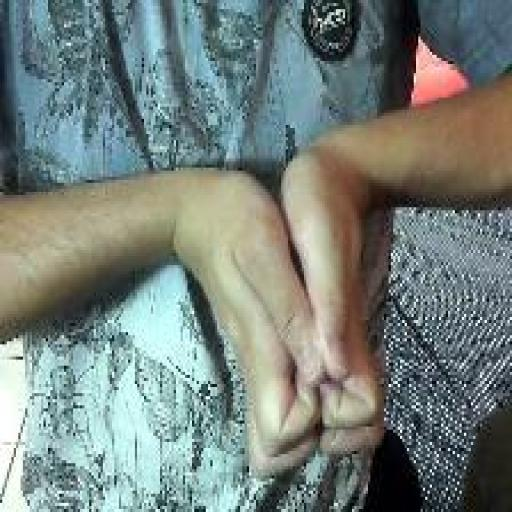I -boar-: (184, 152, 387, 484)
